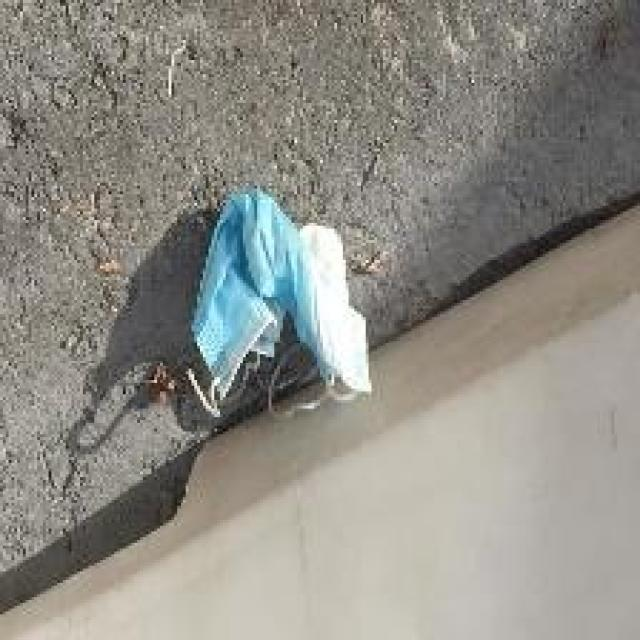Mask: (144, 186, 403, 422)
